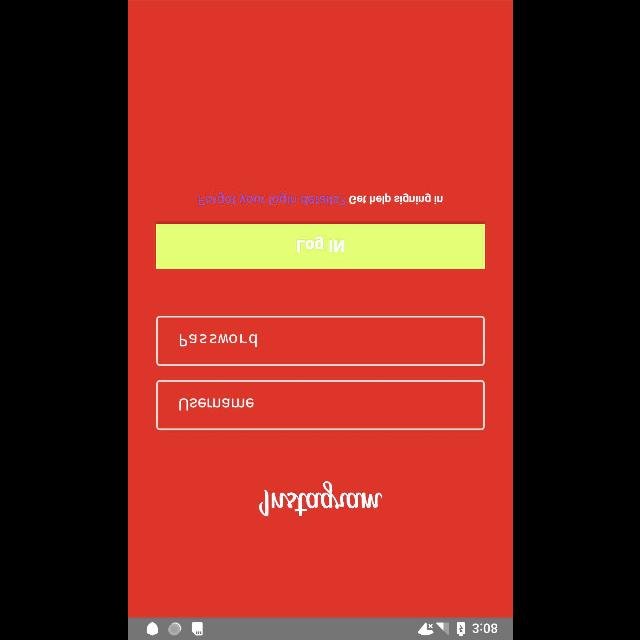image: (258, 481, 382, 517)
input: (156, 380, 484, 430), (156, 316, 484, 366)
text: (198, 192, 344, 205), (180, 334, 256, 348), (348, 193, 442, 204), (179, 398, 253, 410)
textbutton: (156, 225, 484, 269)
uppertaskbar: (128, 617, 512, 639)
